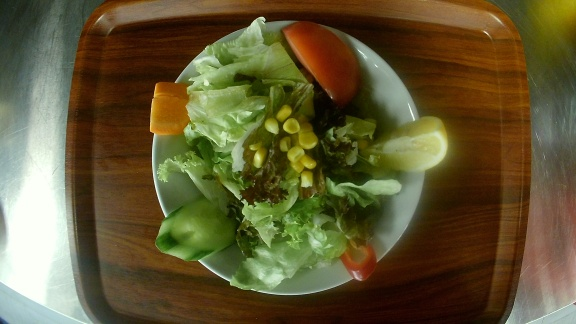salata: (151, 19, 440, 298)
